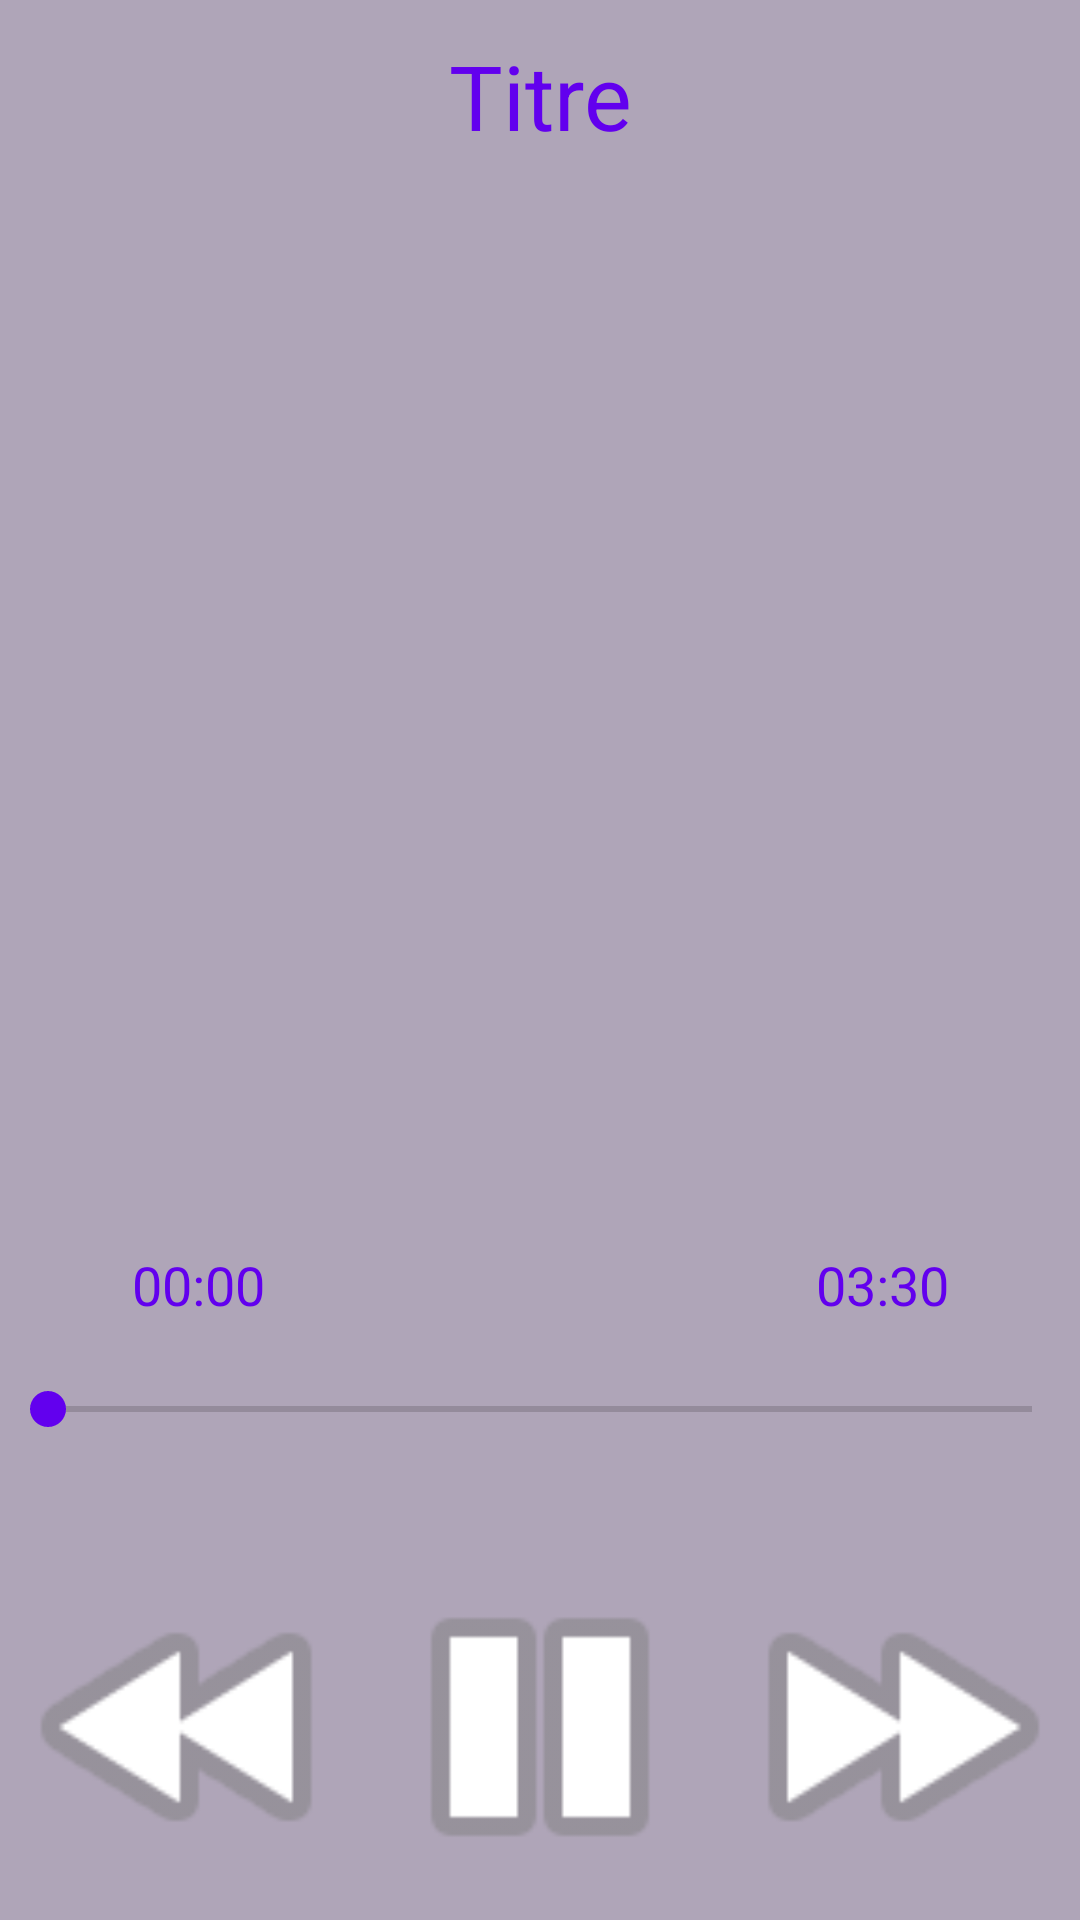

Screen size 1080w x 1920h. Icon name, then its center in pixels as (x,y):
pause: (540,1727)
rew: (176,1727)
